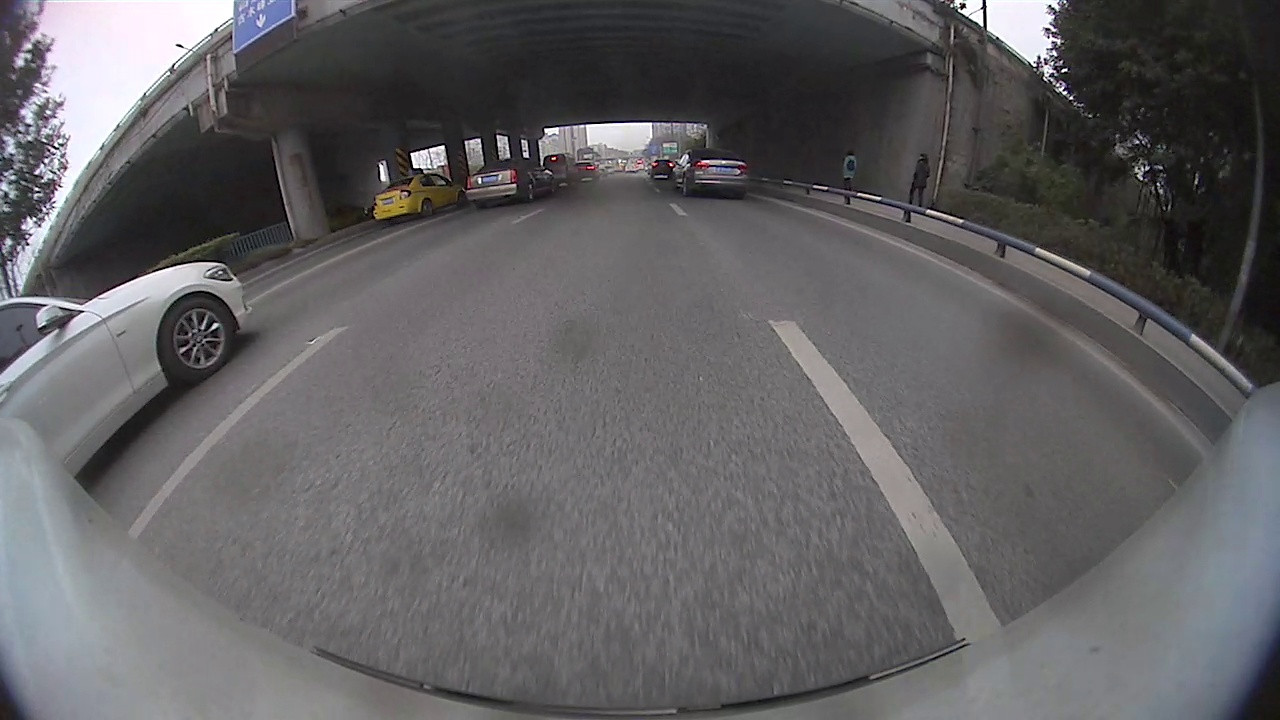car: (1, 259, 255, 480), (371, 172, 468, 227), (465, 156, 559, 209), (672, 146, 750, 200)
front: (163, 294, 232, 380)
person: (915, 151, 932, 207), (843, 147, 858, 206)
rear: (420, 199, 437, 222)
